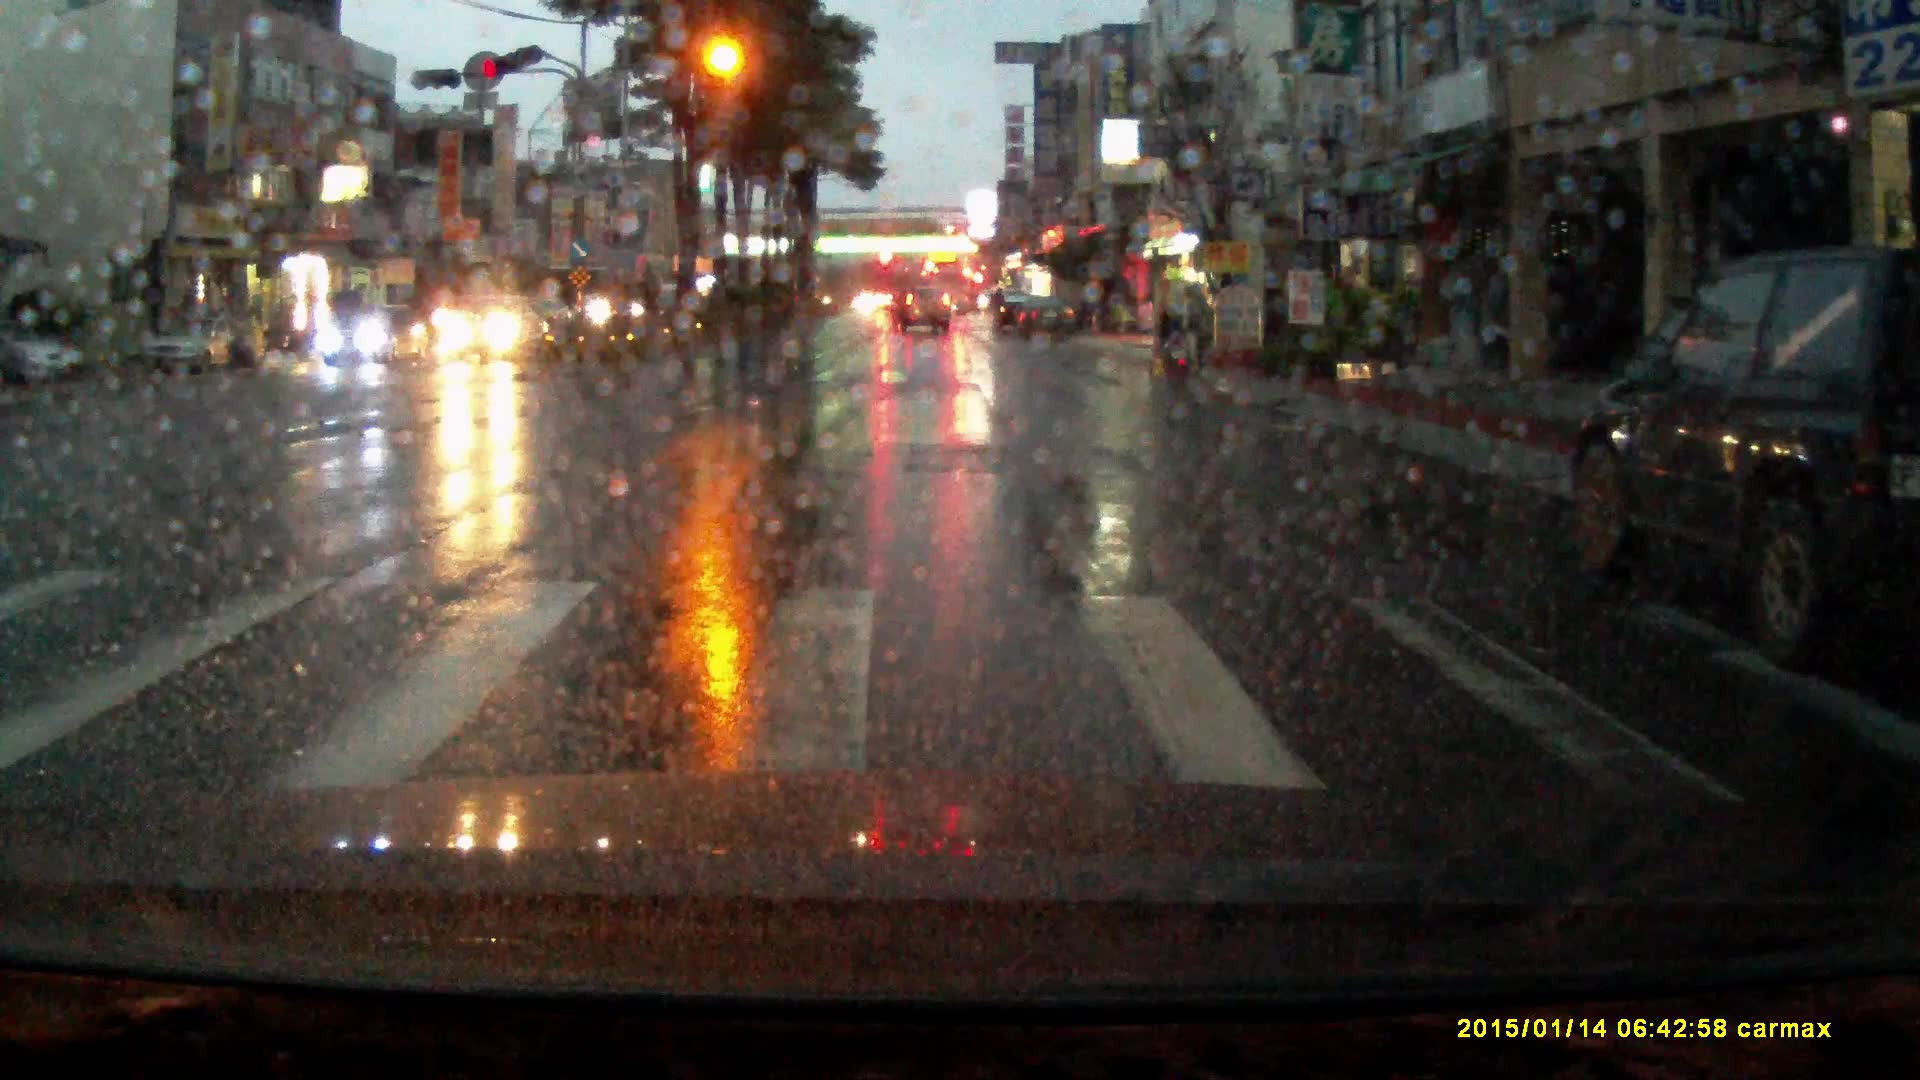rider: (222, 301, 264, 370)
vehicle: (1553, 240, 1920, 667), (144, 301, 259, 374), (317, 303, 430, 371), (444, 288, 546, 360), (587, 268, 664, 326), (1, 322, 73, 380), (893, 282, 953, 333), (1017, 299, 1079, 341), (926, 261, 966, 320), (992, 290, 1029, 332), (860, 286, 898, 315), (572, 292, 613, 318)
